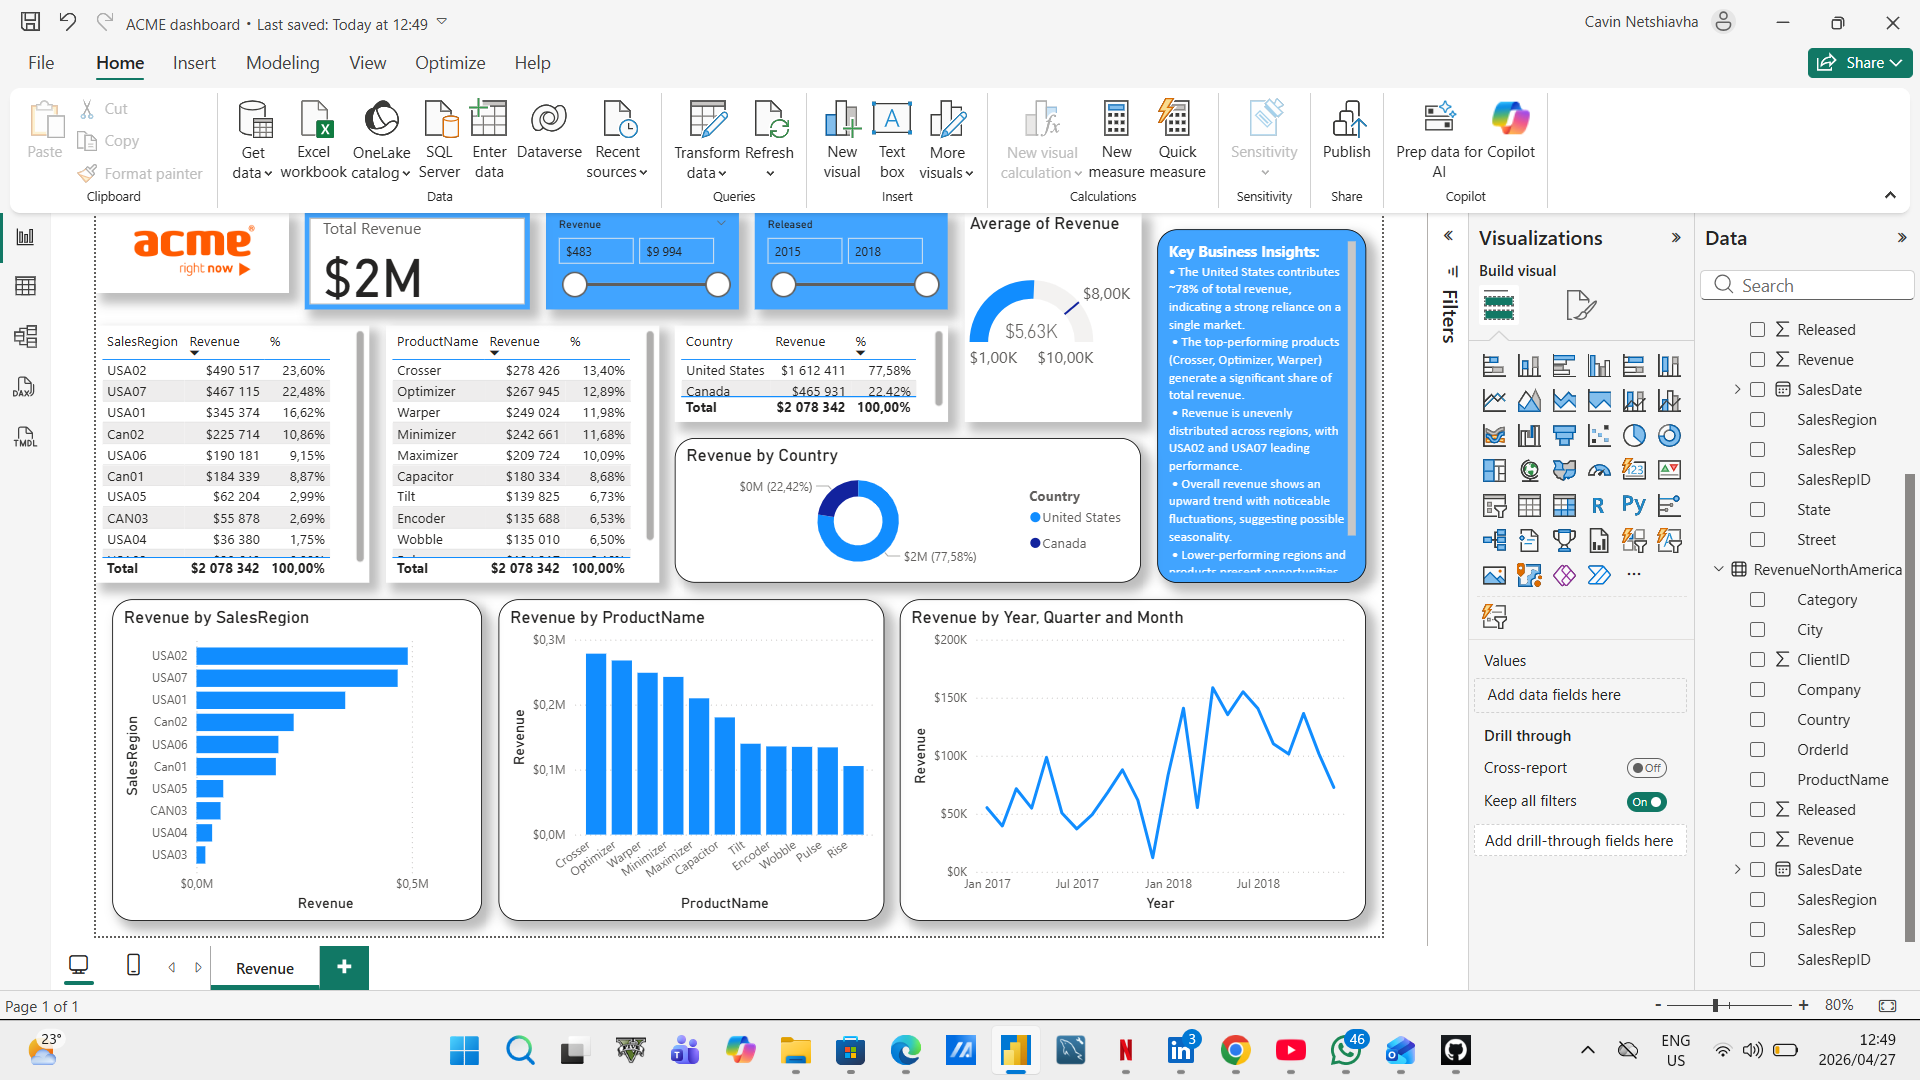

Layout of this report page (visuals, bound fields, positions):
{"tool":"powerbi","page":{"name":"Revenue","canvas":[1280,720],"ordinal":0},"visuals":[{"type":"image","box":[16,0,320,96],"z":0},{"type":"tableEx","fields":{"Values":["ACME Sales North America.SalesRegion","Sum(ACME Sales North America.Revenue)","Divide(Sum(ACME Sales North America.Revenue), ScopedEval(Sum(ACME Sales North America.Revenue), []))"]},"box":[0,80,288,304],"z":1000},{"type":"tableEx","fields":{"Values":["RevenueNorthAmerica.ProductName","Sum(RevenueNorthAmerica.Revenue)","Divide(Sum(RevenueNorthAmerica.Revenue), ScopedEval(Sum(RevenueNorthAmerica.Revenue), []))"]},"box":[256,96,304,288],"z":2000},{"type":"tableEx","fields":{"Values":["RevenueNorthAmerica.Country","Sum(RevenueNorthAmerica.Revenue)","Divide(Sum(RevenueNorthAmerica.Revenue), ScopedEval(Sum(RevenueNorthAmerica.Revenue), []))"]},"box":[593.4,95.8,276.2,116.9],"z":3000},{"type":"tableEx","fields":{"Values":["RevenueNorthAmerica.Country","Sum(RevenueNorthAmerica.Revenue)","Divide(Sum(RevenueNorthAmerica.Revenue), ScopedEval(Sum(RevenueNorthAmerica.Revenue), []))"]},"box":[576,96,368,112],"z":4000},{"type":"donutChart","fields":{"Category":["RevenueNorthAmerica.Country"],"Y":["Sum(RevenueNorthAmerica.Revenue)","Divide(Sum(RevenueNorthAmerica.Revenue), ScopedEval(Sum(RevenueNorthAmerica.Revenue), []))"]},"box":[576,208,416,176],"z":5000},{"type":"lineChart","fields":{"Y":["Sum(RevenueNorthAmerica.Revenue)"],"Category":["RevenueNorthAmerica.SalesDate.Variation.Date Hierarchy.Year","RevenueNorthAmerica.SalesDate.Variation.Date Hierarchy.Quarter","RevenueNorthAmerica.SalesDate.Variation.Date Hierarchy.Month"]},"box":[784,384,464,320],"z":6000},{"type":"clusteredColumnChart","fields":{"Category":["RevenueNorthAmerica.ProductName"],"Y":["Sum(RevenueNorthAmerica.Revenue)"]},"box":[384,384,384,320],"z":7000},{"type":"clusteredBarChart","fields":{"Y":["Sum(RevenueNorthAmerica.Revenue)"],"Category":["RevenueNorthAmerica.SalesRegion"]},"box":[16,384,368,320],"z":8000},{"type":"slicer","fields":{"Values":["RevenueNorthAmerica.Revenue"]},"box":[608,0,208,96],"z":9000},{"type":"slicer","fields":{"Values":["RevenueNorthAmerica.Released"]},"box":[832,0,208,112],"z":10000},{"type":"gauge","fields":{"Y":["Avg(RevenueNorthAmerica.Revenue)"]},"box":[864,128,208,128],"z":11000},{"type":"cardVisual","fields":{"Data":["Sum(RevenueNorthAmerica.Revenue)"]},"box":[320,0,256,96],"z":12000},{"type":"textbox","box":[1056,16,208,352],"z":12001}]}

Visuals, with their boxes on the page's 1280x720 design canvas (x1, y1, x2, y2). These are canvas units, not pixel positions in the 1920x1080 screenshot, which may show the page scaled, cropped or inside an application window:
image: 16 0 336 96
tableEx - ACME Sales North America.SalesRegion x Sum(ACME Sales North America.Revenue): 0 80 288 384
tableEx - RevenueNorthAmerica.ProductName x Sum(RevenueNorthAmerica.Revenue): 256 96 560 384
tableEx - RevenueNorthAmerica.Country x Sum(RevenueNorthAmerica.Revenue): 593 96 870 213
tableEx - RevenueNorthAmerica.Country x Sum(RevenueNorthAmerica.Revenue): 576 96 944 208
donutChart - RevenueNorthAmerica.Country x Sum(RevenueNorthAmerica.Revenue): 576 208 992 384
lineChart - Sum(RevenueNorthAmerica.Revenue) x RevenueNorthAmerica.SalesDate.Variation.Date Hierarchy.Year: 784 384 1248 704
clusteredColumnChart - RevenueNorthAmerica.ProductName x Sum(RevenueNorthAmerica.Revenue): 384 384 768 704
clusteredBarChart - Sum(RevenueNorthAmerica.Revenue) x RevenueNorthAmerica.SalesRegion: 16 384 384 704
slicer - RevenueNorthAmerica.Revenue: 608 0 816 96
slicer - RevenueNorthAmerica.Released: 832 0 1040 112
gauge - Avg(RevenueNorthAmerica.Revenue): 864 128 1072 256
cardVisual - Sum(RevenueNorthAmerica.Revenue): 320 0 576 96
textbox: 1056 16 1264 368
